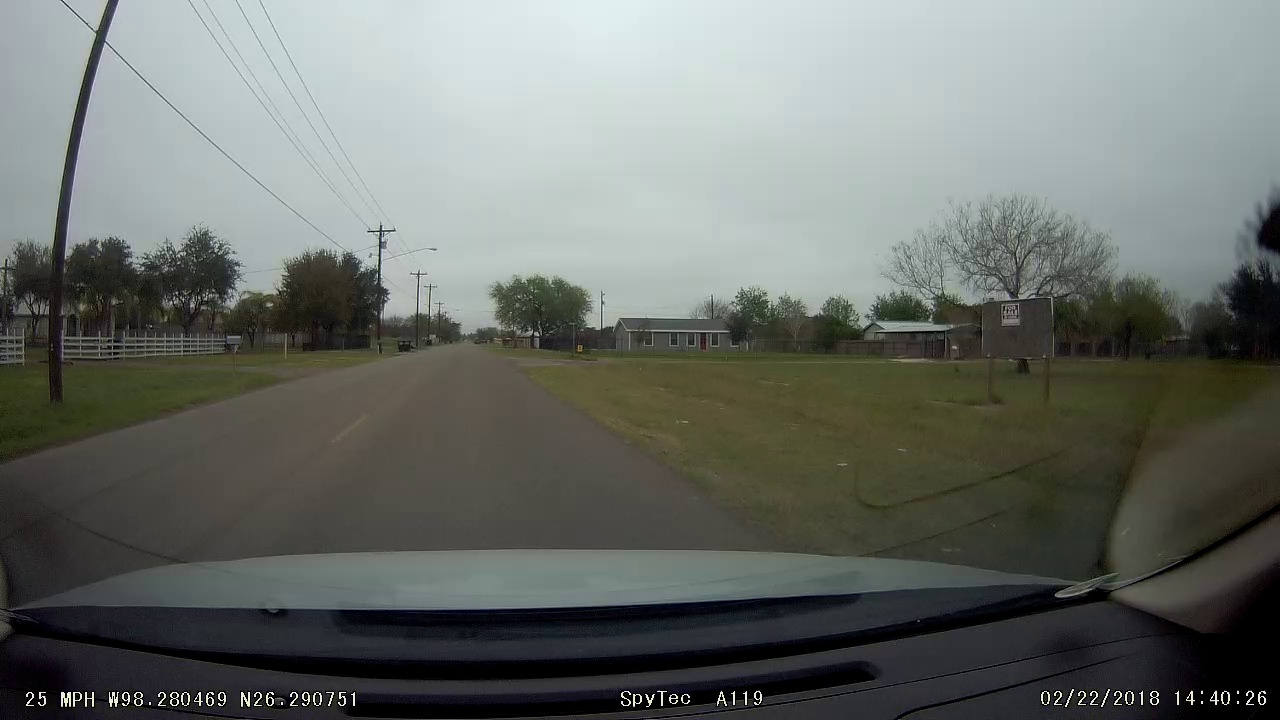blurredLine: (317, 408, 392, 452)
